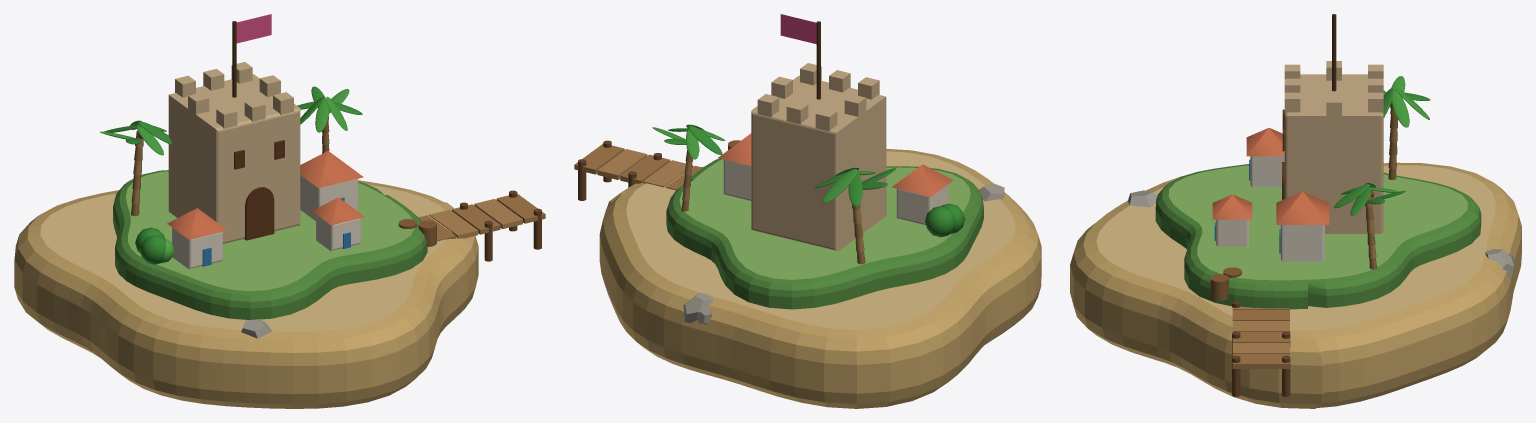
Rendered from port.glb.
The picture shows the model from 3 angles, left to right: view 1: azimuth 30°, elevation 25°; view 2: azimuth 150°, elevation 25°; view 3: azimuth 270°, elevation 25°; orthographic projection. The views are drawn at different scales.
Visible parts, largest first — view 1: part_000, part_002, part_004, part_005, part_006, part_003; view 2: part_000, part_002, part_004, part_005, part_006, part_003, part_008; view 3: part_000, part_002, part_004, part_005, part_008, part_007.
Boxes of the visible parts, box(x1,y1,x2,y2) form: part_000: box(14, 170, 478, 408); part_002: box(167, 21, 545, 268); part_004: box(100, 120, 172, 216); part_005: box(297, 86, 362, 153); part_006: box(135, 227, 174, 264); part_003: box(236, 14, 271, 43); part_000: box(599, 149, 1041, 408); part_002: box(574, 21, 953, 250); part_004: box(815, 167, 895, 264); part_005: box(652, 124, 725, 211); part_006: box(925, 203, 964, 237); part_003: box(780, 14, 816, 44); part_008: box(683, 292, 712, 324); part_000: box(1070, 162, 1521, 408); part_002: box(1210, 14, 1383, 396); part_004: box(1383, 76, 1430, 179); part_005: box(1334, 183, 1405, 269); part_008: box(1485, 249, 1514, 277); part_007: box(1128, 190, 1157, 207).
Size of the model in its own units: 9.59 by 6.3 by 8.67.
